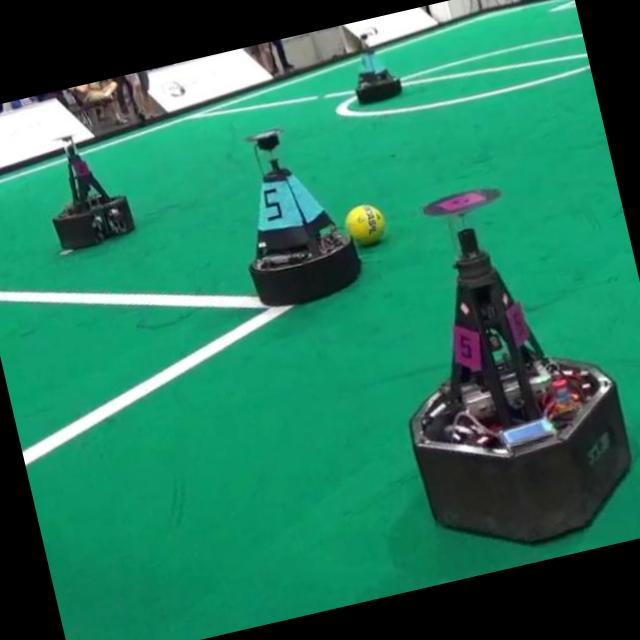ball: (344, 203, 384, 244)
robot: (409, 187, 631, 541), (248, 129, 361, 304), (52, 147, 133, 247), (355, 33, 401, 103)
